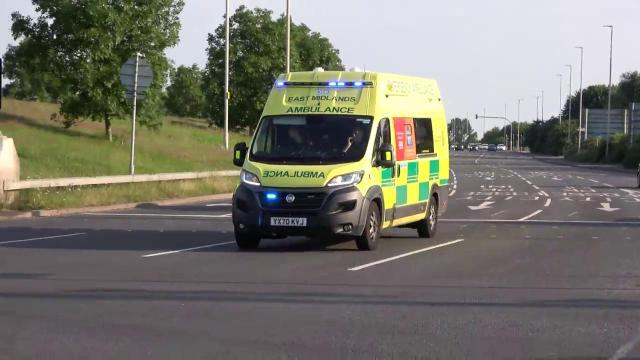police: (233, 67, 455, 249)
